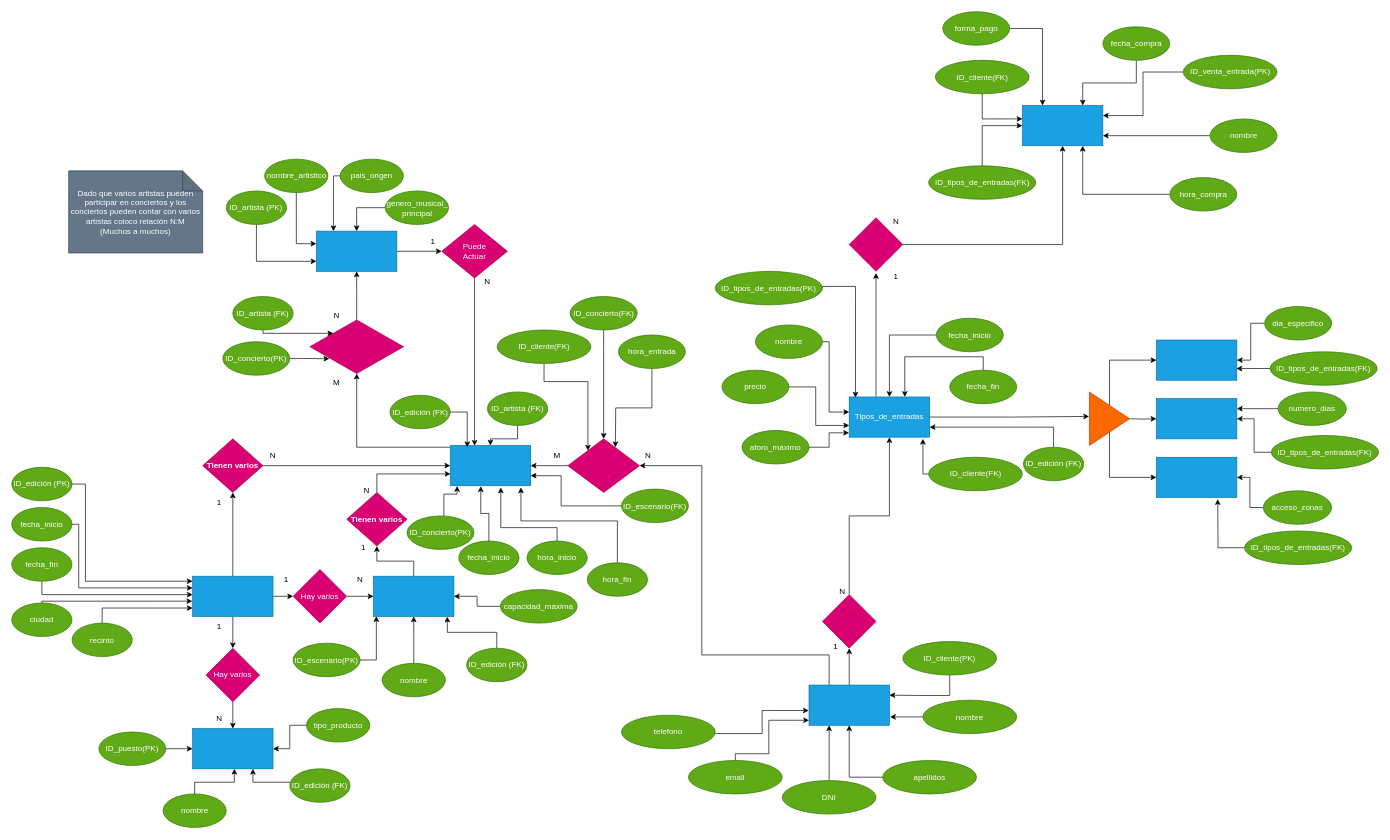
The diagram is 1390 pixels wide and 840 high, and some of its shapes have lost their labels. The shapes that lost their labels are listed below. From the top down, each one's box as (x1, y1, x2, y2) in pixels, then its label:
(1022, 105, 1103, 146): Venta_Entrada
(316, 230, 397, 271): Artista
(849, 217, 903, 271): PERTENECE
(309, 319, 404, 374): Participacion_invitado
(1156, 339, 1237, 380): Entrada_de_dia
(1089, 391, 1130, 446): Pueden ser
(1156, 398, 1237, 439): Abono_completo
(450, 445, 531, 486): Concierto
(567, 438, 640, 492): Acceso_concierto
(1156, 457, 1237, 497): Entrada_VIP
(192, 576, 273, 616): Edición
(373, 576, 454, 616): Escenario
(822, 594, 876, 648): Compra
(808, 684, 889, 725): Cliente
(192, 728, 273, 769): Puestos
